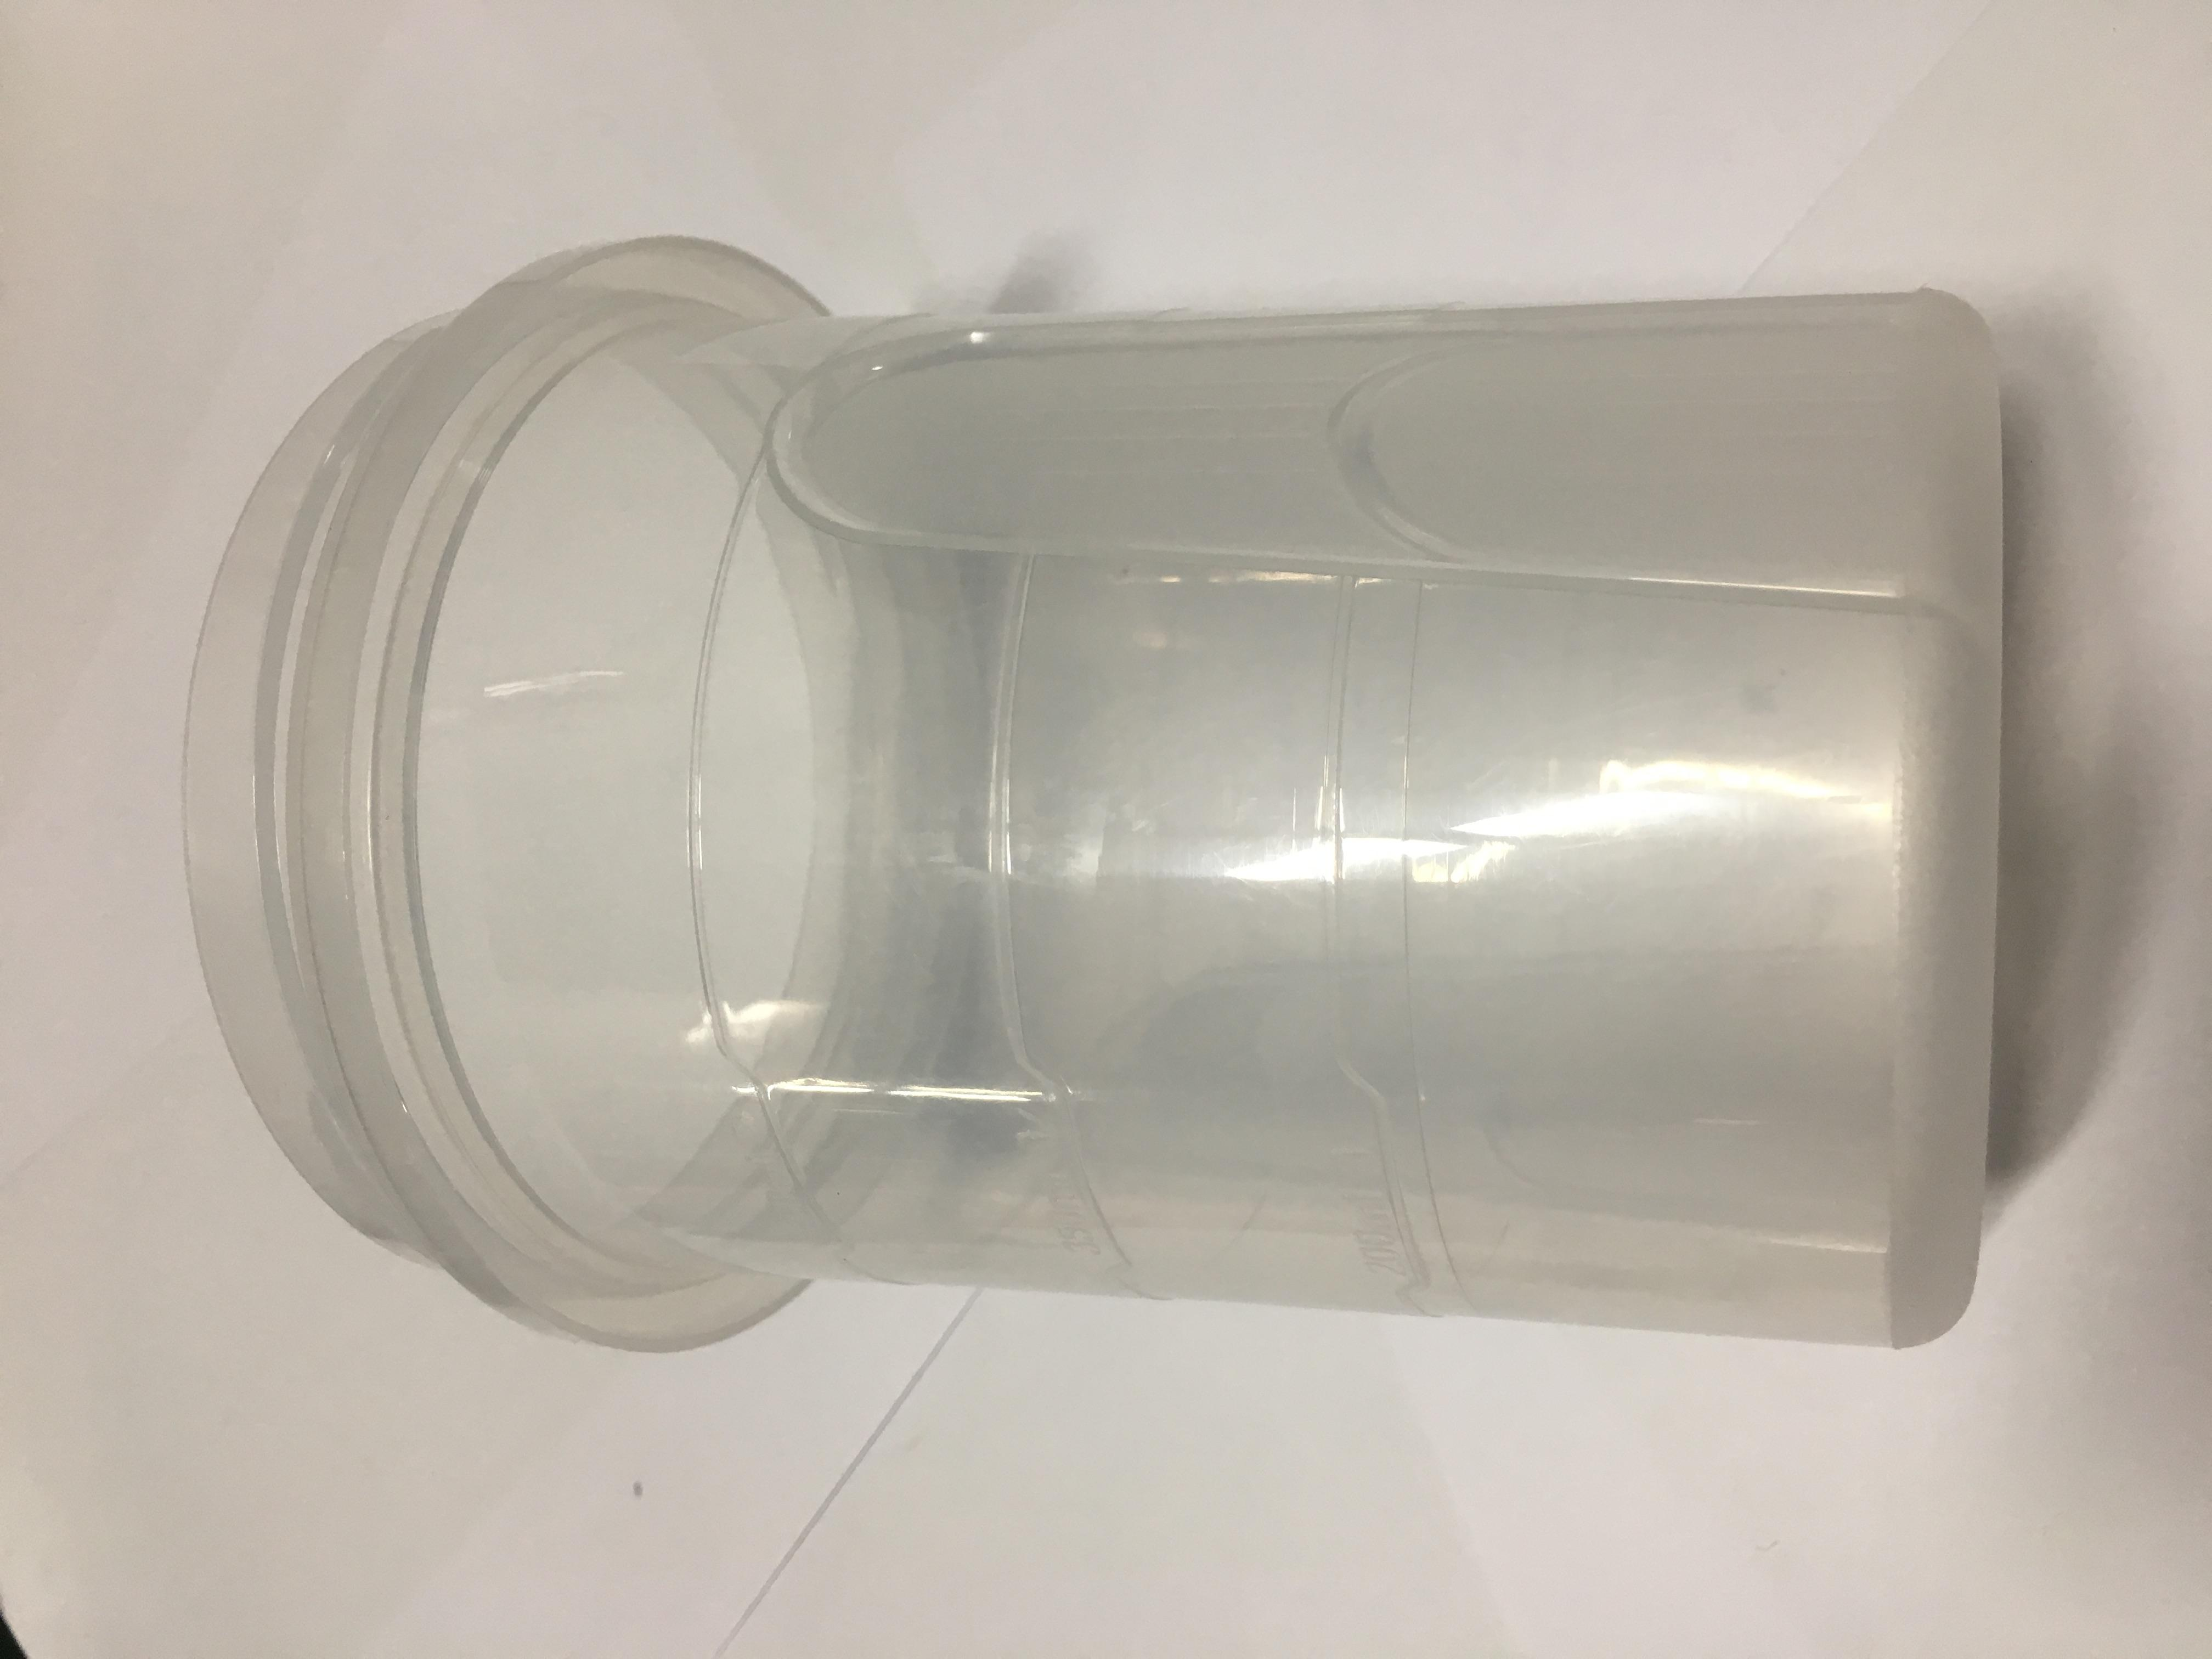bottle: (1019, 805, 1217, 906)
